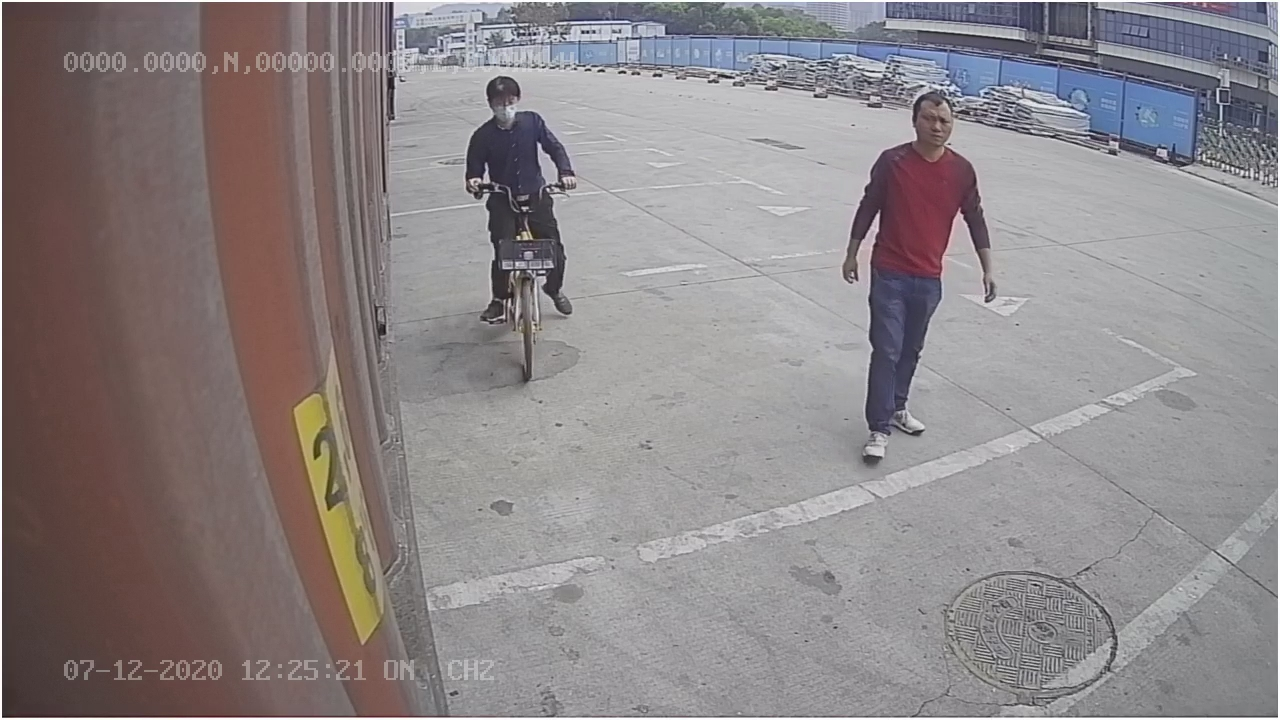person: (838, 88, 1003, 464)
